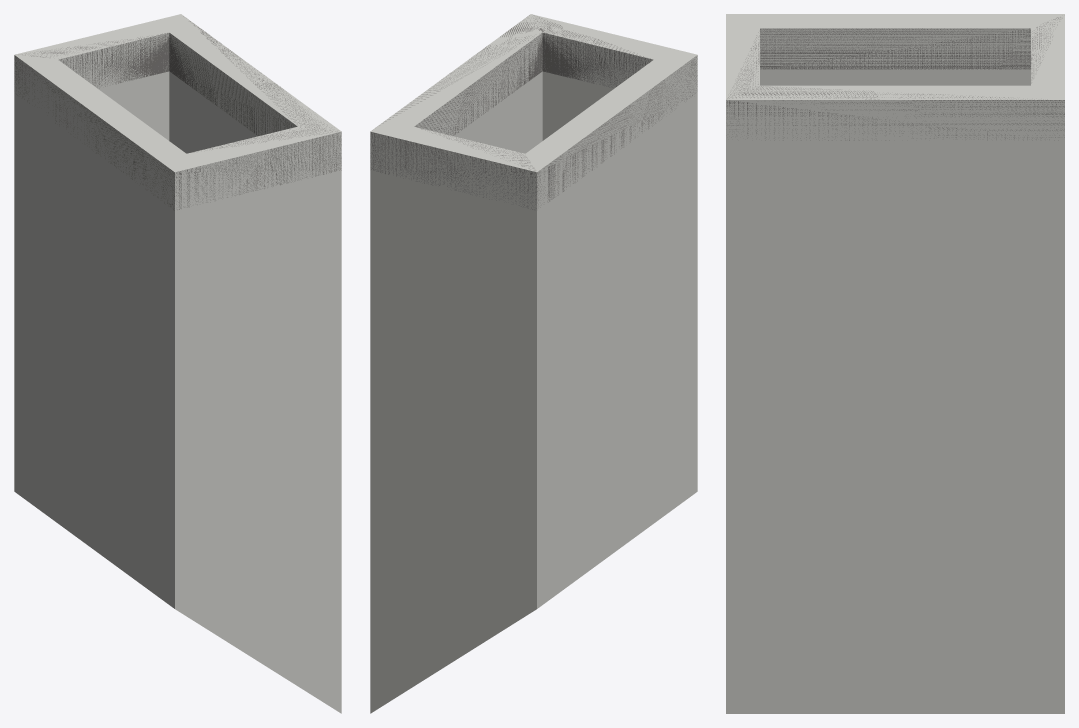
Rendered from ax_aero_34_inrd_radial_intake_xs.glb.
3 renders of one model, left to right at view 1: azimuth 30°, elevation 25°; view 2: azimuth 150°, elevation 25°; view 3: azimuth 270°, elevation 25°, orthographic. The views are drawn at different scales.
Parts seen in each view (by area): view 1: scoop, lip; view 2: scoop, lip; view 3: scoop, lip.
Boxes of the visible parts, x1=… form: scoop: x1=14, y1=14, x2=341, y2=713; lip: x1=14, y1=16, x2=341, y2=210; scoop: x1=370, y1=14, x2=697, y2=713; lip: x1=370, y1=15, x2=697, y2=209; scoop: x1=726, y1=14, x2=1064, y2=713; lip: x1=726, y1=17, x2=1064, y2=140.
Size of the model in its own units: 0.18 by 0.6 by 0.3.
Materials: 2 (1 with a texture image).
